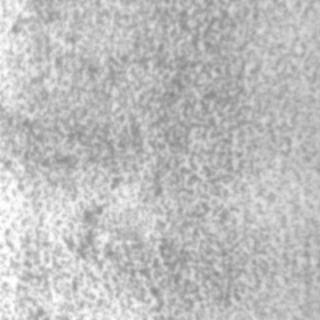pitted_surface: (5, 13, 313, 317)
